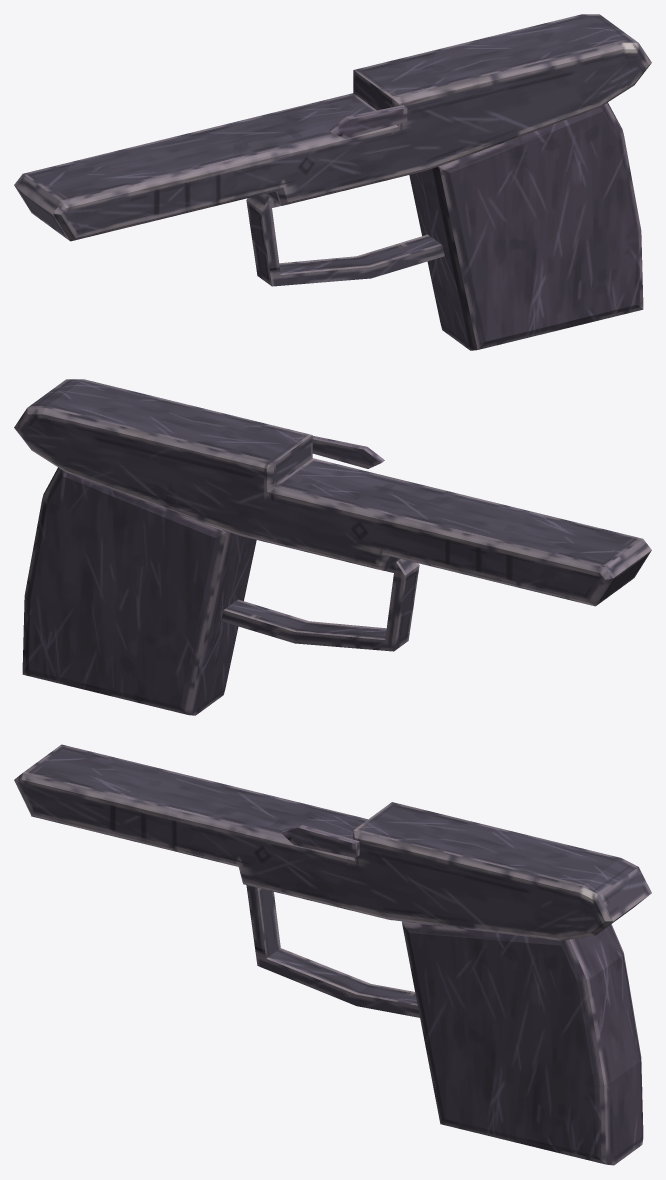
The model's file is pistol_body.fbx.
3 views of the same model, one above another, from view 1: azimuth 30°, elevation 25°; view 2: azimuth 150°, elevation 25°; view 3: azimuth 330°, elevation 25° (orthographic).
Visible parts, largest first — view 1: pistol_body; view 2: pistol_body; view 3: pistol_body.
Boxes of the visible parts, x1=… form: pistol_body: x1=14, y1=14, x2=651, y2=350; pistol_body: x1=14, y1=379, x2=651, y2=715; pistol_body: x1=14, y1=744, x2=651, y2=1165.
Size of the model in its own units: 1.02 by 0.45 by 0.1406.
